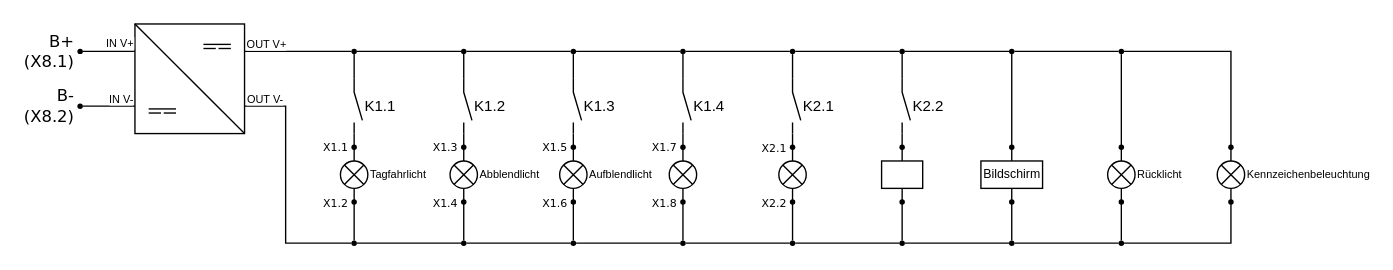
This 1393x270 diagram has some shape labels left out. Here are the shapes that lost their labels. From the top down, the centre of each, then its label:
the point at 682,174: Blinker Links
the point at 791,174: Blinker Rechts
the point at 901,174: Hupe
